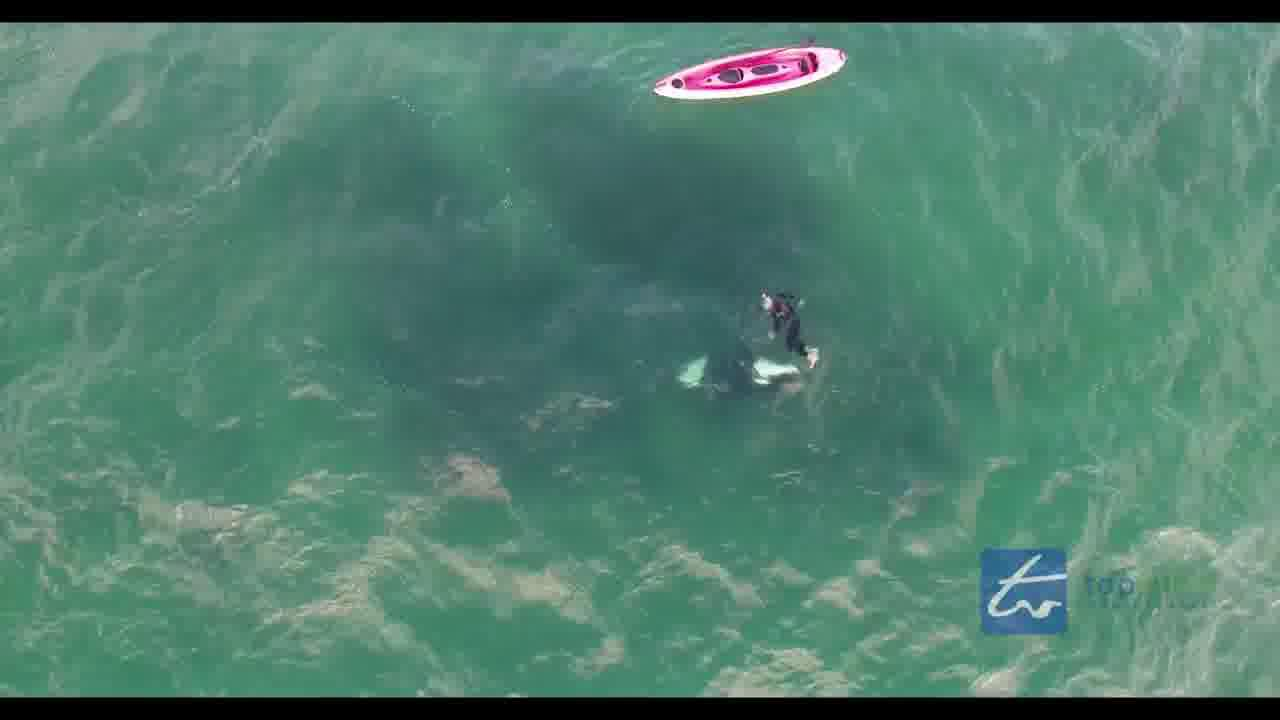swimmer: (757, 285, 820, 355)
